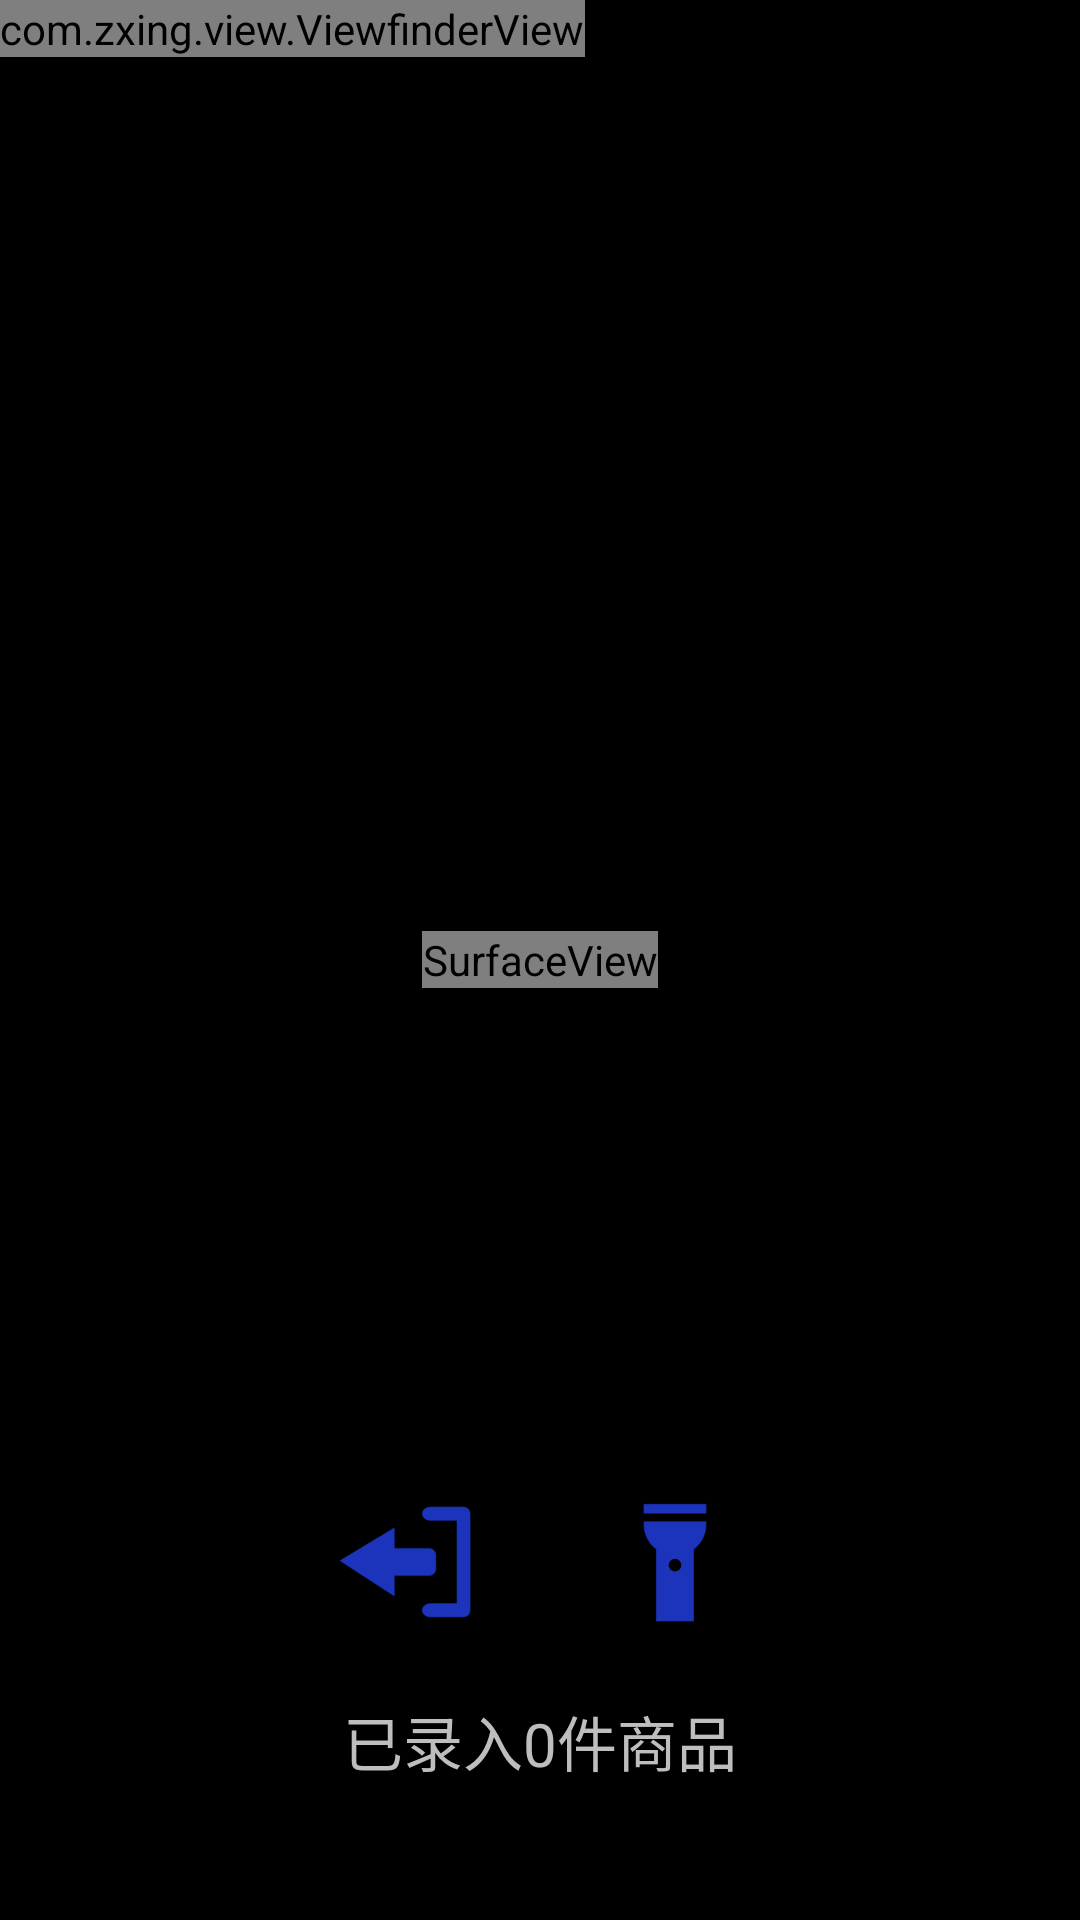

Screen size 1080×1920. Icon name, then its box in pixels as (x1, y1, x2, y2):
back: (340, 1506, 471, 1618)
